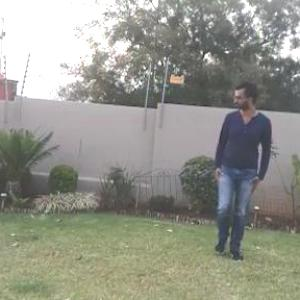follow: (210, 77, 267, 262)
